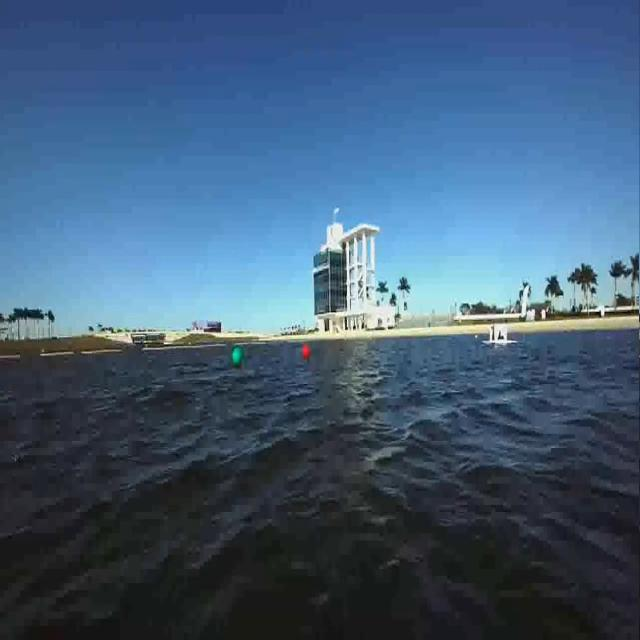green-buoy: (233, 347, 245, 368)
red-buoy: (303, 344, 312, 358)
